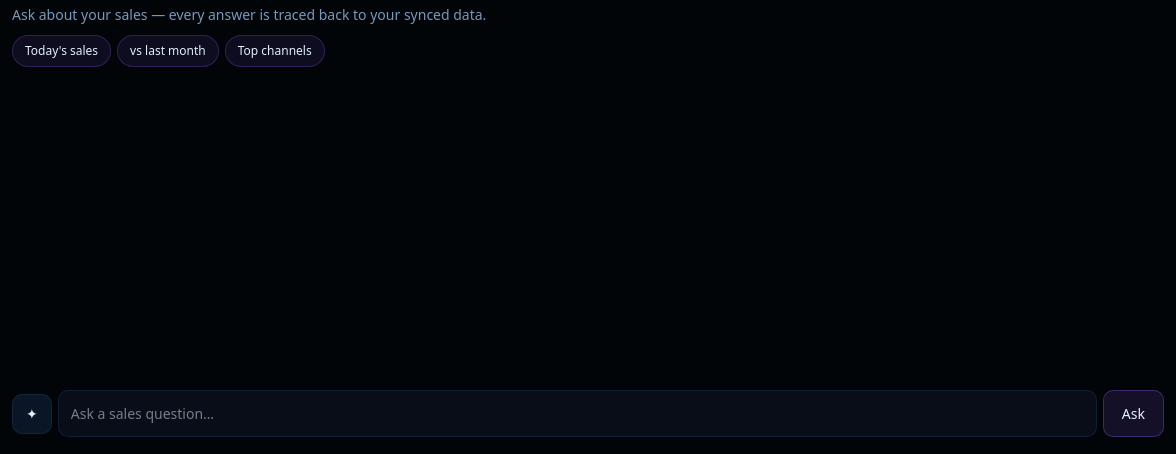
Test: CopilotConversation › exposes every suggestion in the dropdown
Click the button named "Suggested questions".
click(32, 414)  # box 12,394 -> 52,434
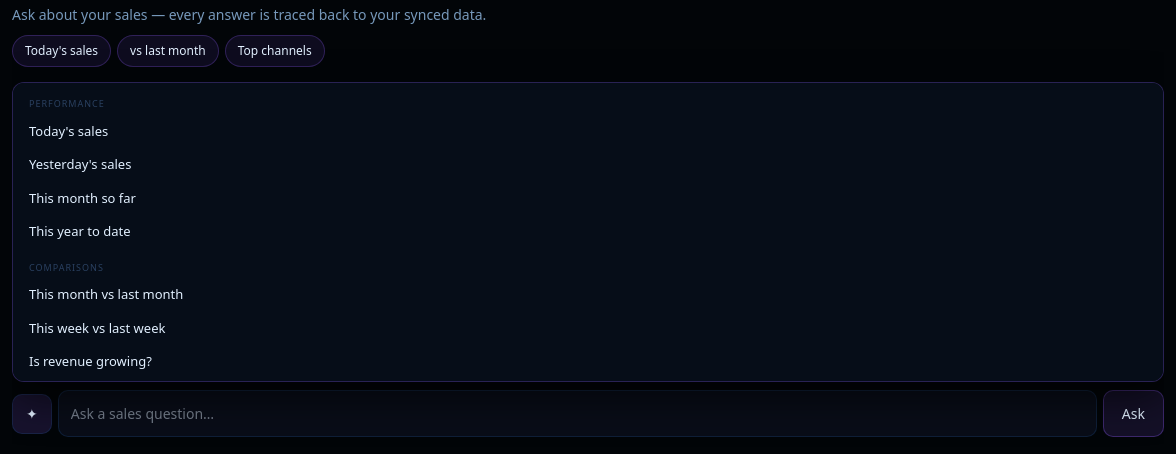
Now the option "Today's sales" is shown, box 21,114 -> 1155,148
Now the option "Yesterday's sales" is shown, box 21,148 -> 1155,182
Now the option "This month so far" is shown, box 21,182 -> 1155,215
